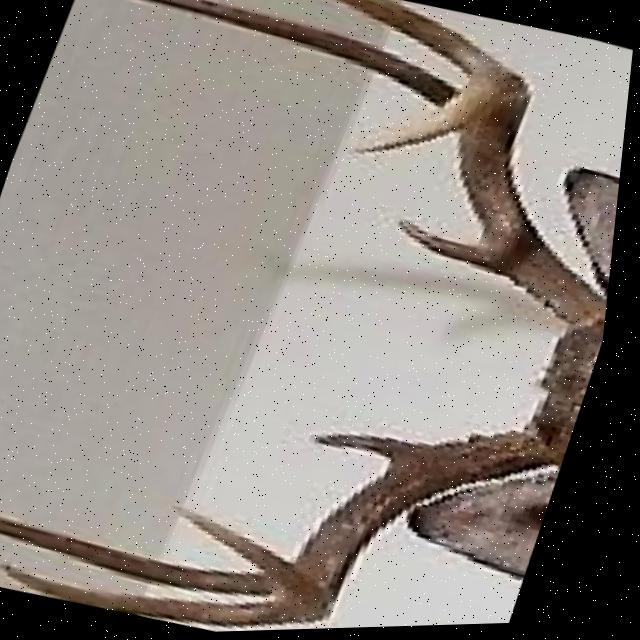L-F: (179, 434, 574, 627)
L-G1: (318, 433, 444, 471)
L-G2: (0, 511, 286, 599)
L-G3: (15, 565, 304, 628)
R-F: (345, 69, 614, 335)
R-G1: (404, 221, 512, 279)
R-G2: (139, 0, 462, 107)
R-G3: (329, 0, 510, 82)
